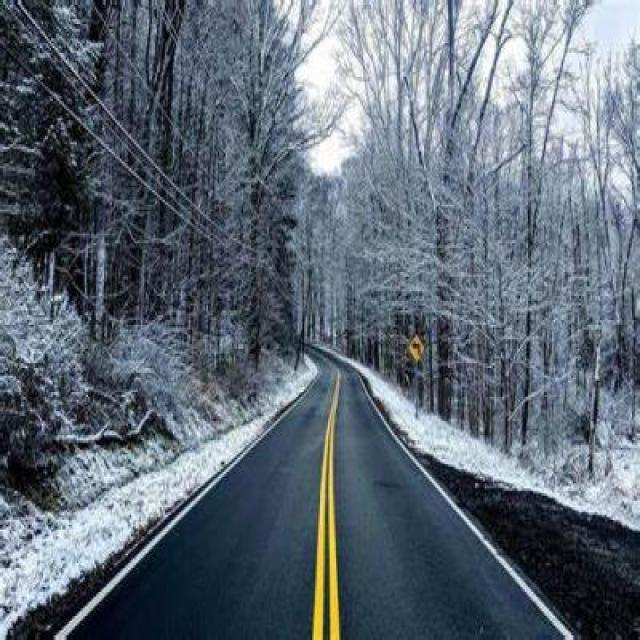clear-road: (58, 351, 571, 640)
